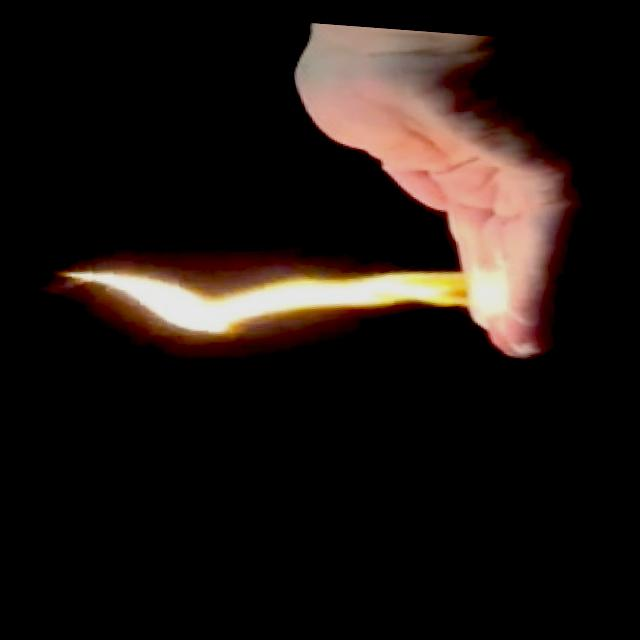helmet: (42, 203, 524, 370)
